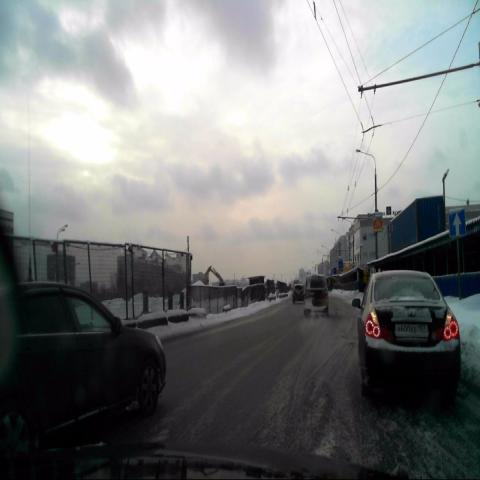5_5: (449, 207, 466, 239)
